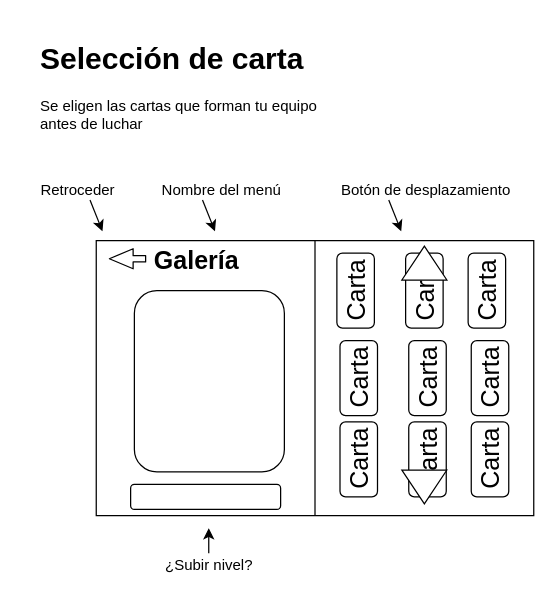
This 556x611 diagram has some shape labels left out. The shapes that lost their labels are listed below. From the top down, each one's centre as x and y in pixels, then its label:
At (x=208, y=380): "Carta completa Mucha info y stats".
At (x=205, y=496): "Aumentar rareza?".
